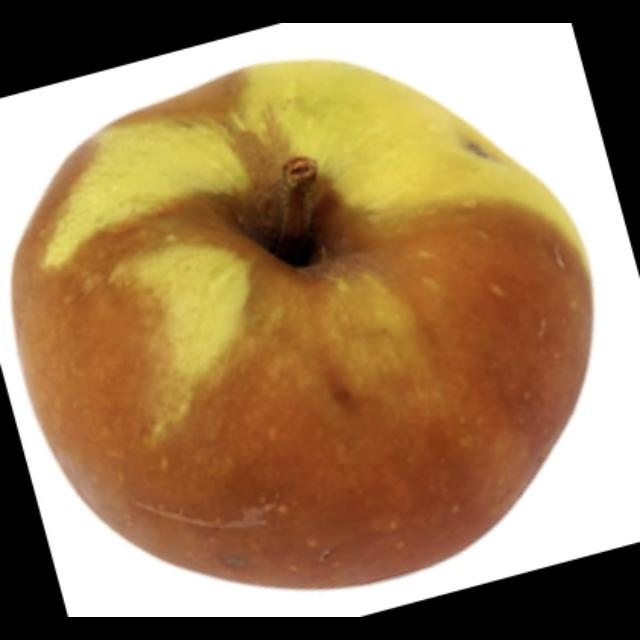Apel Tidak Segar: (7, 57, 600, 597)
